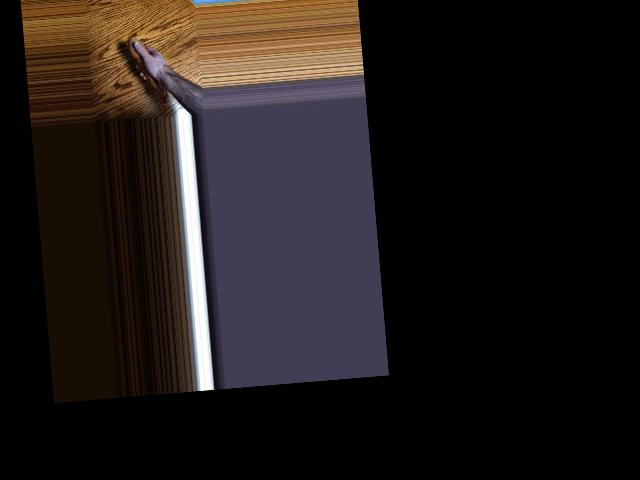sweet_potato: (125, 33, 172, 111)
